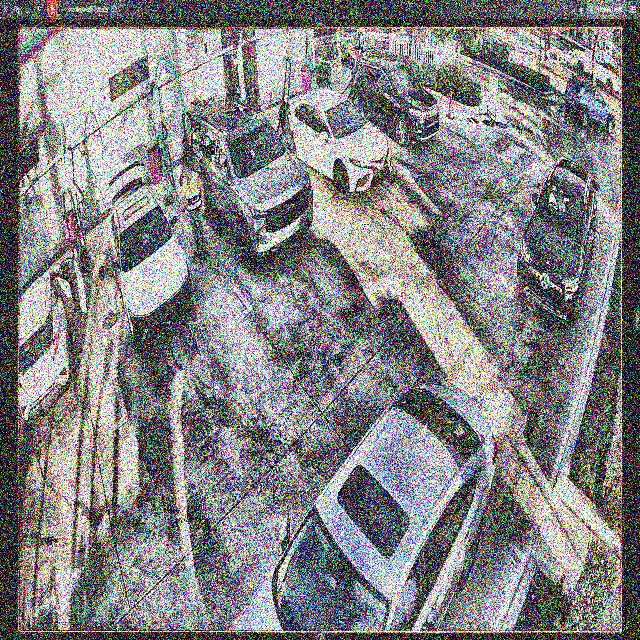Car: (227, 368, 496, 632), (185, 103, 312, 270), (107, 168, 188, 348), (283, 89, 392, 190), (352, 57, 441, 145)
